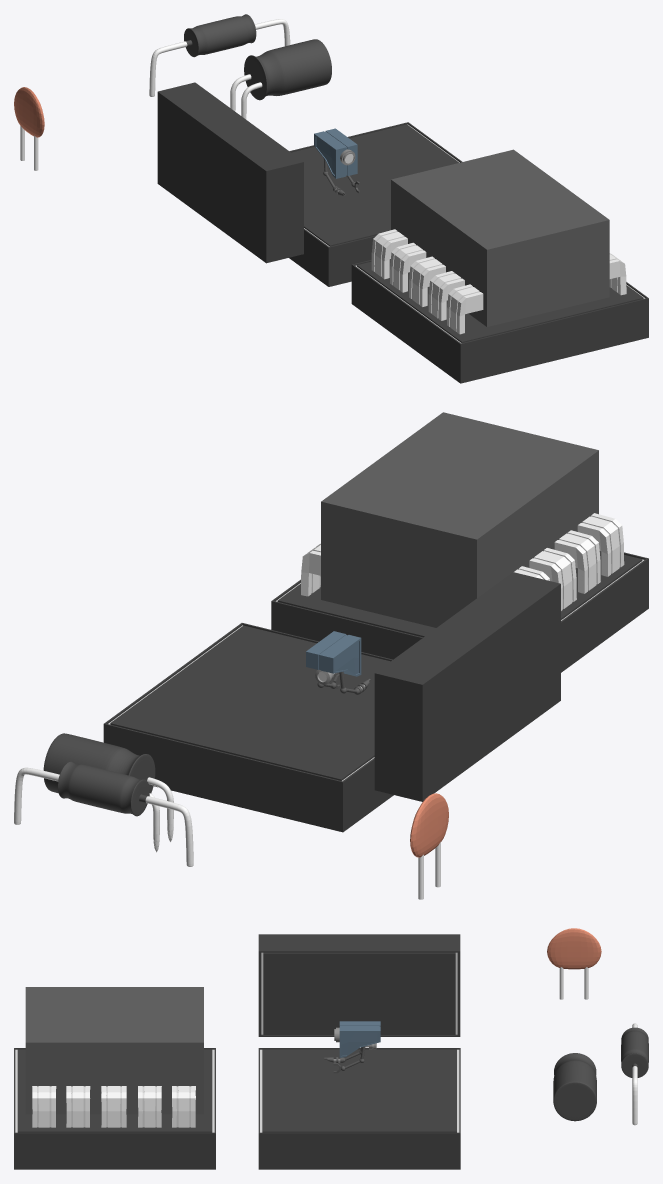
The model's file is 1.2 Cyber Enviornment Blocks pack.fbx.
The picture shows the model from 3 angles, top to bottom: view 1: azimuth 30°, elevation 25°; view 2: azimuth 150°, elevation 25°; view 3: azimuth 270°, elevation 25°; orthographic projection. The views are drawn at different scales.
Visible parts, largest first — view 1: 1x1 Computer Chip Block, Basic 1x1 Wall, Basic 1x1 Floor, Capacitor, Resistor2, Cube.002, Resistor 1; view 2: 1x1 Computer Chip Block, Basic 1x1 Floor, Basic 1x1 Wall, Resistor2, Capacitor, Cube.002, Resistor 1; view 3: 1x1 Computer Chip Block, Basic 1x1 Floor, Basic 1x1 Wall, Capacitor, Resistor 1, Cube.002, Resistor2.
Part boxes in pixels (x1,y1,x2,y2): 1x1 Computer Chip Block: [351, 149, 648, 383]; Basic 1x1 Wall: [157, 82, 303, 263]; Basic 1x1 Floor: [289, 122, 462, 286]; Capacitor: [230, 39, 331, 119]; Resistor2: [149, 14, 290, 96]; Cube.002: [314, 128, 360, 195]; Resistor 1: [14, 87, 44, 170]; 1x1 Computer Chip Block: [271, 412, 648, 672]; Basic 1x1 Floor: [103, 623, 393, 832]; Basic 1x1 Wall: [374, 572, 560, 801]; Resistor2: [14, 761, 193, 866]; Capacitor: [43, 733, 173, 852]; Cube.002: [306, 631, 370, 694]; Resistor 1: [410, 793, 448, 899]; 1x1 Computer Chip Block: [14, 987, 215, 1169]; Basic 1x1 Floor: [258, 1048, 460, 1169]; Basic 1x1 Wall: [258, 934, 460, 1036]; Capacitor: [553, 1053, 596, 1121]; Resistor 1: [547, 928, 601, 999]; Cube.002: [324, 1021, 380, 1073]; Resistor2: [621, 1023, 648, 1125].
Size of the model in its own units: 1703 by 666 by 3145.
